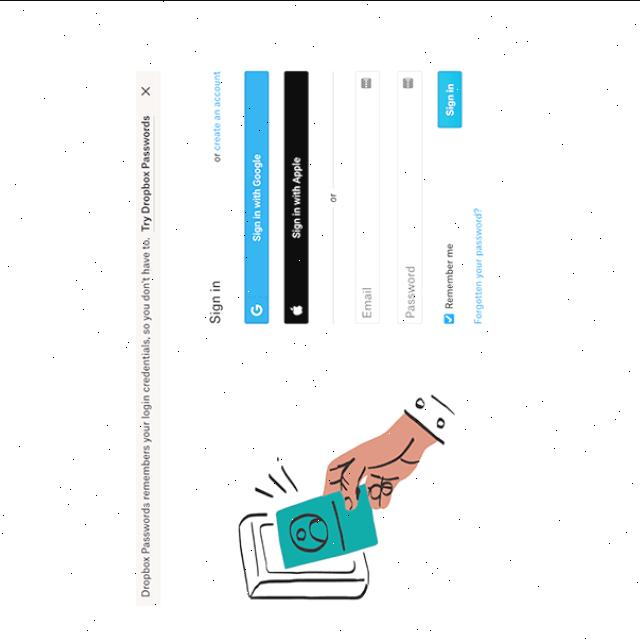QLabel: (138, 236, 152, 600), (140, 114, 154, 232), (472, 206, 484, 324), (290, 156, 302, 238), (252, 152, 262, 242), (207, 280, 223, 324), (444, 242, 454, 308), (214, 69, 220, 149), (444, 82, 456, 116), (213, 152, 221, 162), (329, 192, 337, 202)
VBtn: (242, 69, 270, 325), (282, 69, 310, 325), (436, 70, 464, 128)
VCheckbox: (442, 311, 456, 327)
VDivider: (330, 205, 336, 322), (331, 70, 335, 188)
VIcon: (250, 302, 262, 316), (139, 84, 151, 96), (290, 304, 302, 314)
VImg: (214, 369, 473, 619)
VTextField: (394, 69, 424, 324), (353, 69, 381, 323)
